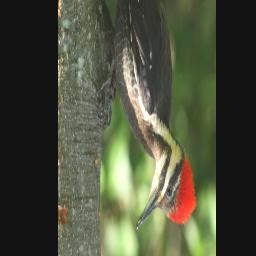Woodpecker: (98, 0, 196, 231)
